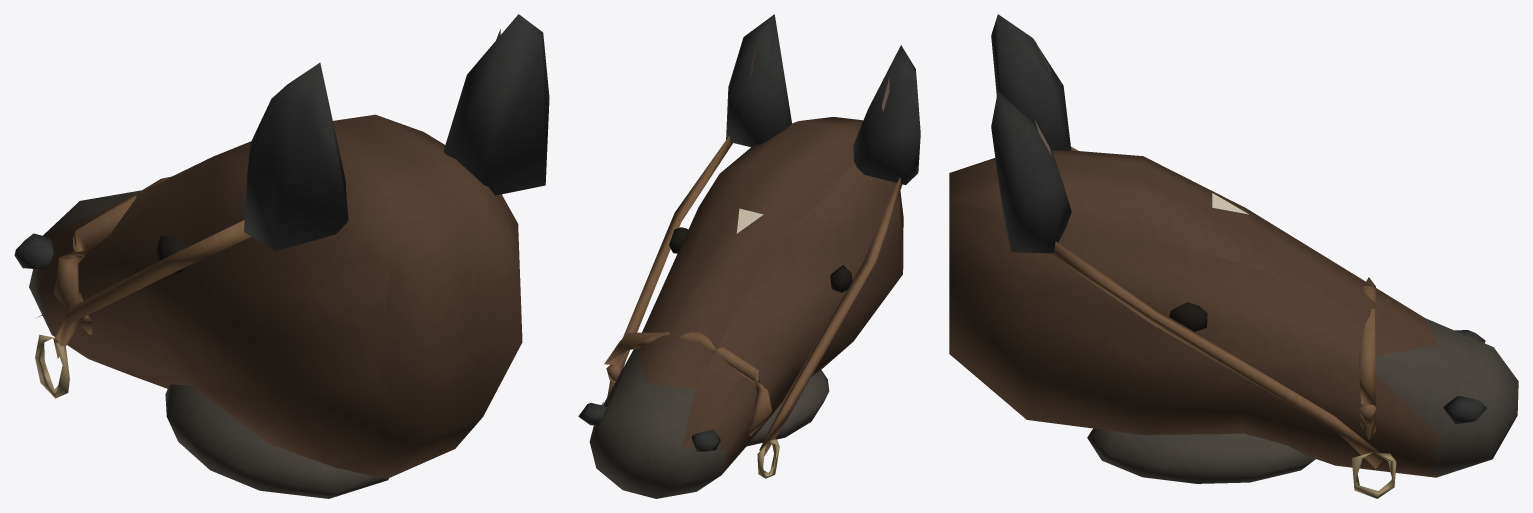
File: head_lod2.glb
3 views of the same model, side by side, from view 1: azimuth 30°, elevation 25°; view 2: azimuth 150°, elevation 25°; view 3: azimuth 270°, elevation 25° (orthographic). The views are drawn at different scales.
Parts seen in each view (by area): view 1: agro_head_LOD2; view 2: agro_head_LOD2; view 3: agro_head_LOD2.
Boxes of the visible parts, left/top/right/bottom form: agro_head_LOD2: left=14, top=14, right=549, bottom=498; agro_head_LOD2: left=578, top=14, right=920, bottom=498; agro_head_LOD2: left=949, top=14, right=1518, bottom=498.
Size of the model in its own units: 0.4077 by 0.6459 by 0.8025.
8 materials, 4 textured.
